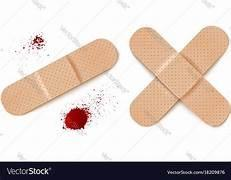Bandage: (130, 27, 229, 125), (1, 39, 117, 114)
